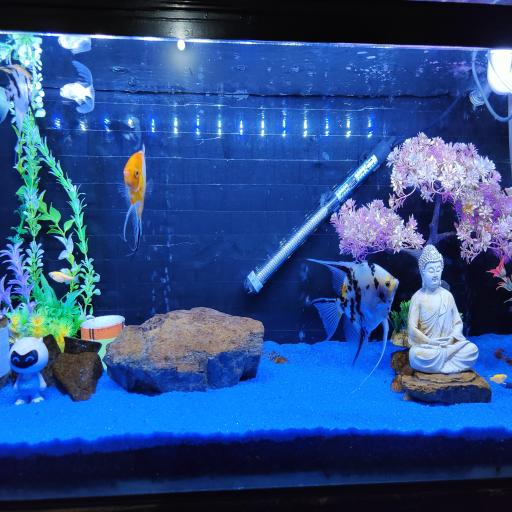Fish: (310, 260, 398, 380), (124, 145, 146, 254), (0, 65, 33, 132), (60, 61, 94, 113), (58, 35, 91, 54), (49, 270, 78, 282), (490, 375, 507, 383)
